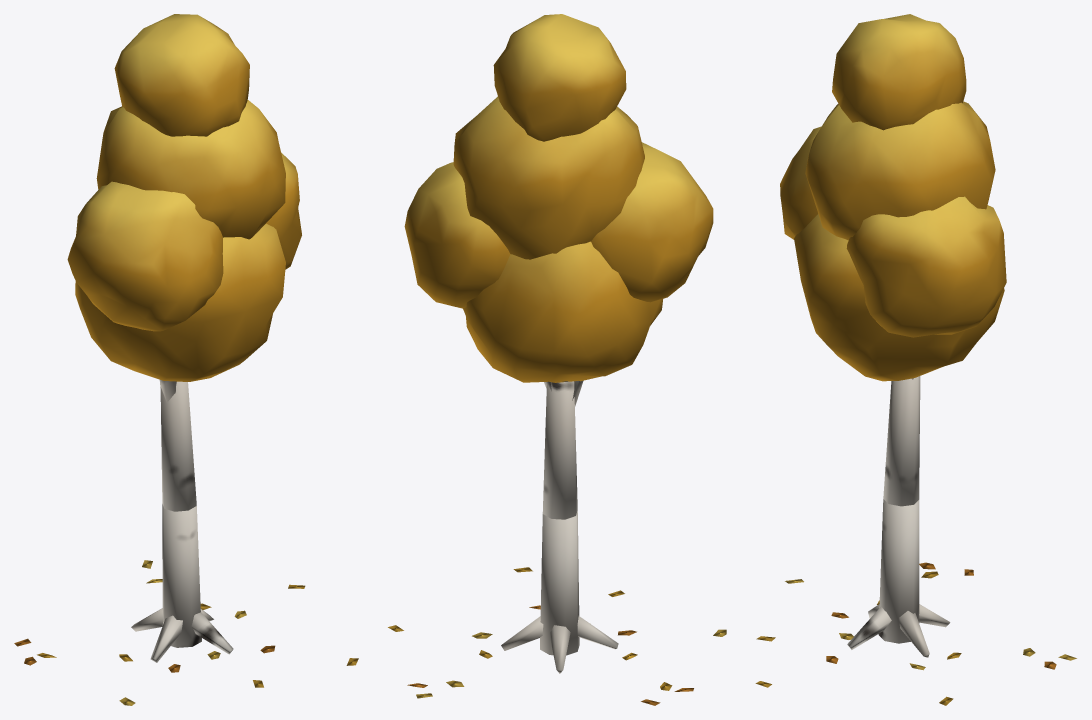
The model's file is season_decid_b_autumn.glb.
3 renders of one model, left to right at view 1: azimuth 30°, elevation 25°; view 2: azimuth 150°, elevation 25°; view 3: azimuth 270°, elevation 25°, orthographic.
Visible parts, largest first — view 1: branches; view 2: branches; view 3: branches.
Part boxes in pixels (<box>): branches: <box>14,14,358,705</box>; branches: <box>388,14,726,705</box>; branches: <box>755,14,1076,705</box>.
Bounding box in the file's own units: 2.15 × 4.38 × 2.05.
1 material, 1 textured.
